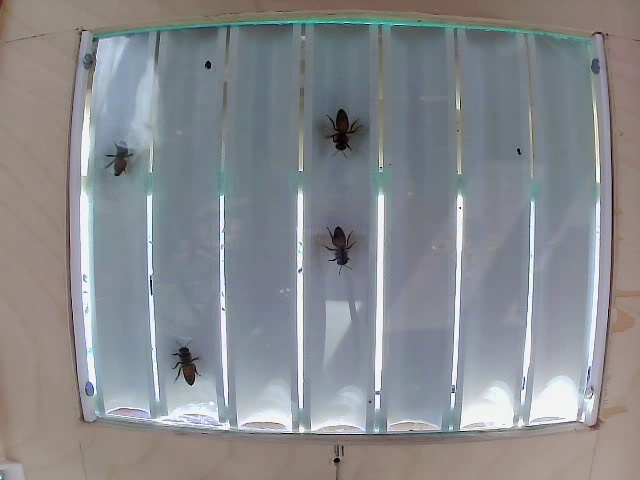bee: (166, 323, 203, 385), (92, 132, 137, 173), (327, 99, 357, 150), (323, 236, 365, 271)
